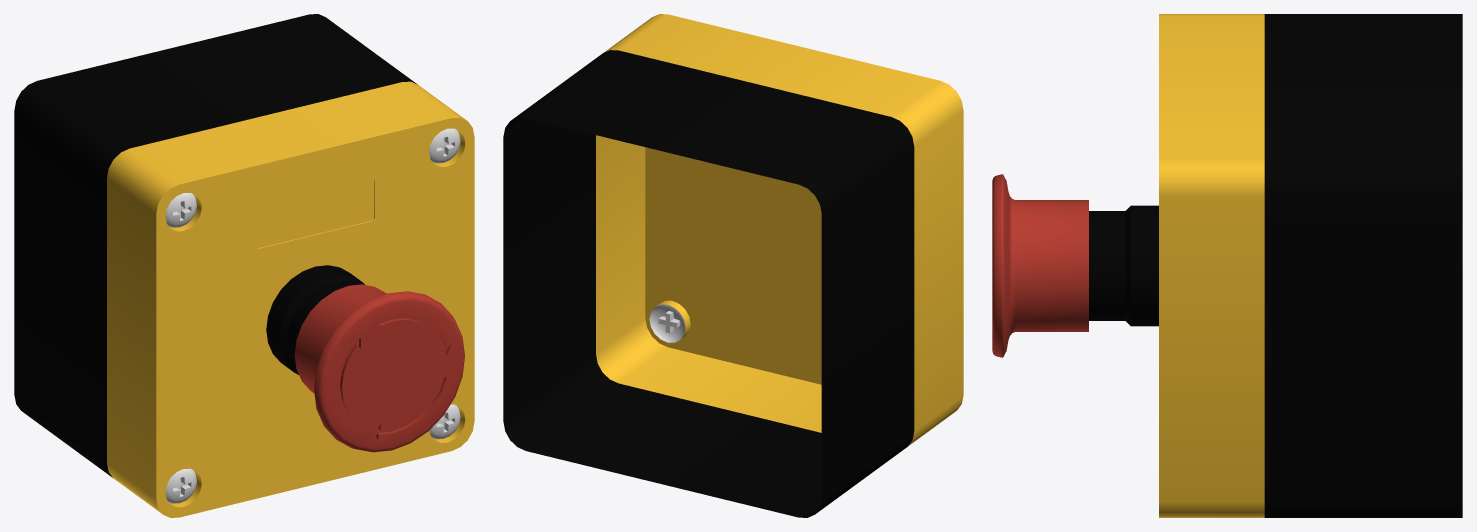
3 views of the same model, side by side, from view 1: azimuth 30°, elevation 25°; view 2: azimuth 150°, elevation 25°; view 3: azimuth 270°, elevation 25° (orthographic). The views are drawn at different scales.
Parts seen in each view (by area): view 1: Box, Button, Screws; view 2: Box, Screws; view 3: Box, Button.
Boxes of the visible parts, <box> form: Box: <box>14,14,474,517</box>; Button: <box>294,284,464,452</box>; Screws: <box>165,128,460,503</box>; Box: <box>503,14,963,517</box>; Screws: <box>649,304,685,342</box>; Box: <box>1089,14,1462,517</box>; Button: <box>992,174,1088,357</box>.
Bounding box in the file's own units: 140 × 140 × 167.
1 material, 1 textured.
